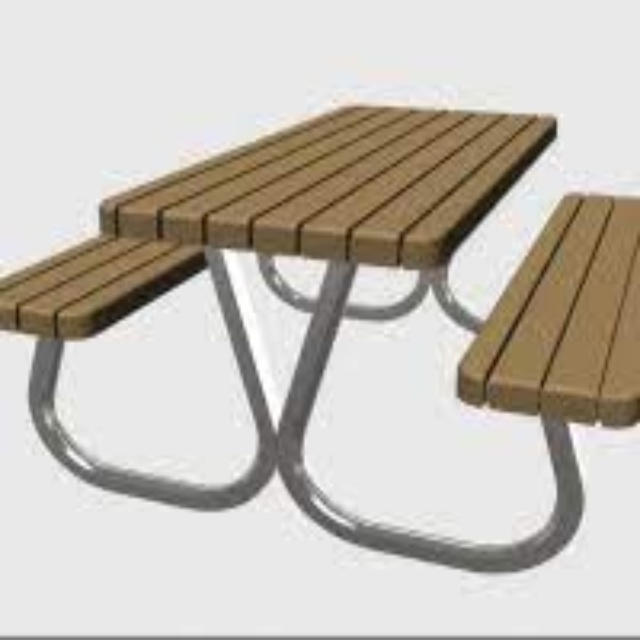obstacle: (3, 78, 630, 587)
